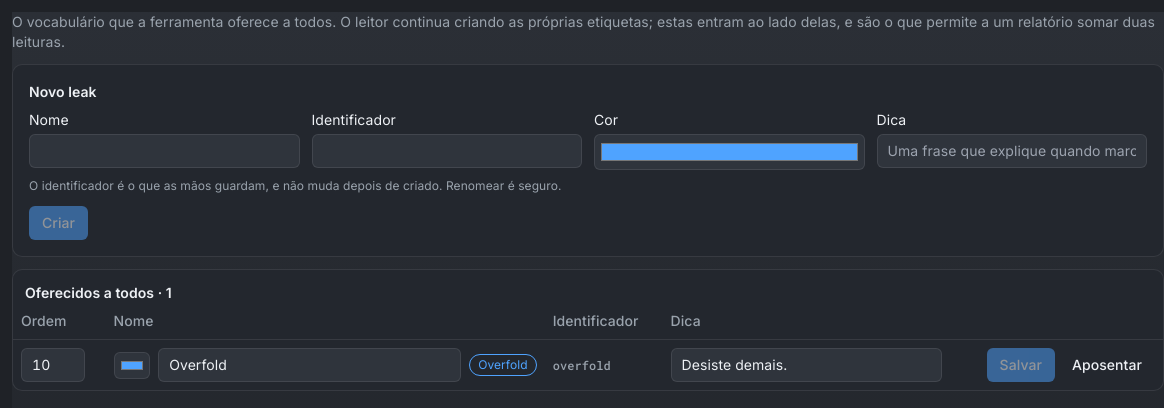
Test: a tela do catálogo de leaks › recusa criar com um identificador que já existe, e diz o motivo
The width and height of the screenshot is (1164, 408).
expect the field showing "Overfold" is shown: met, box [158,348,461,382]
Type "Overfold" into the field labelled "Nome". click: (164, 151)
box: [29,134,300,168]
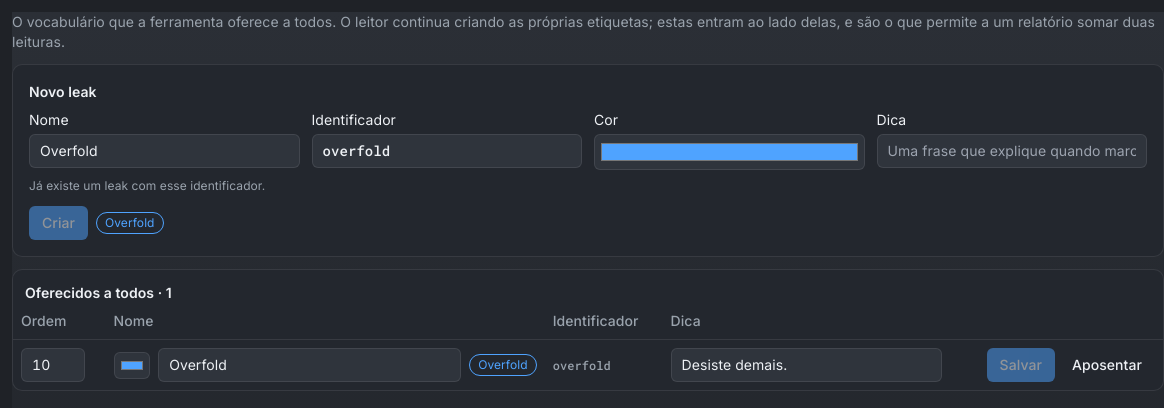
expect the button "Criar" is disabled: met, box [29,206,88,240]
expect the text "Já existe um leak com esse identificador." is shown: met, box [29,178,265,193]
